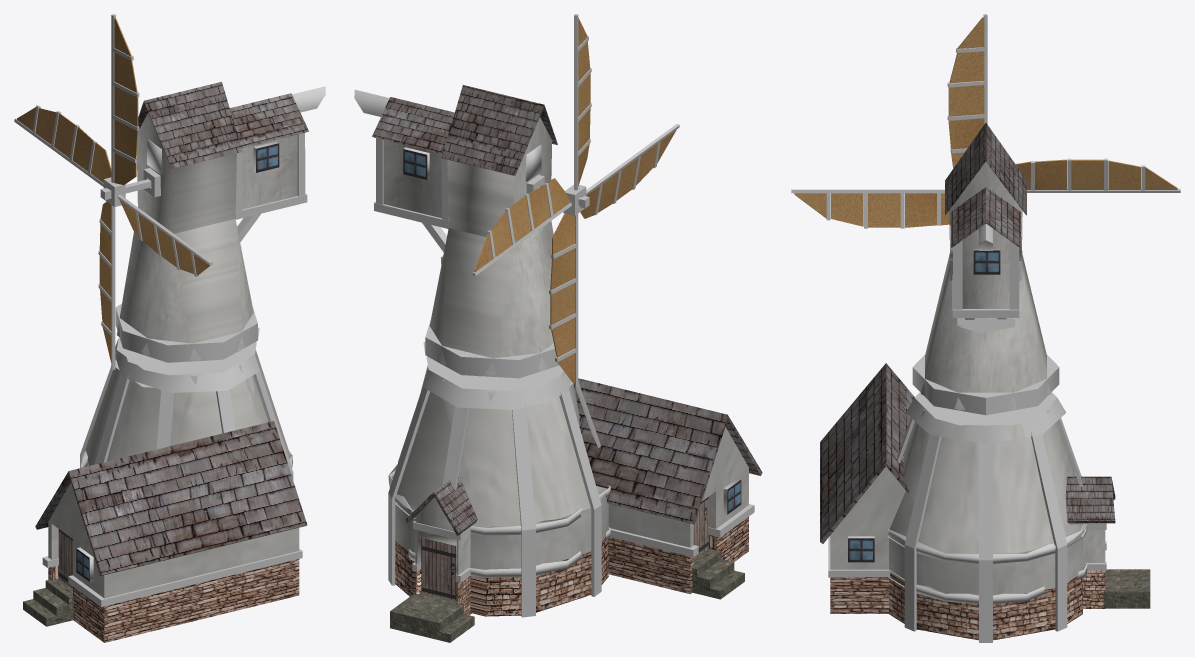
3 views of the same model, side by side, from view 1: azimuth 30°, elevation 25°; view 2: azimuth 150°, elevation 25°; view 3: azimuth 270°, elevation 25° (orthographic). The views are drawn at different scales.
Parts seen in each view (by area): view 1: RigModels_Windmill; view 2: RigModels_Windmill; view 3: RigModels_Windmill.
Boxes of the visible parts, x1,y1,x2,y2 form: RigModels_Windmill: (14, 14, 325, 642); RigModels_Windmill: (354, 14, 762, 642); RigModels_Windmill: (791, 14, 1180, 642).
Size of the model in its own units: 155 by 250 by 161.
